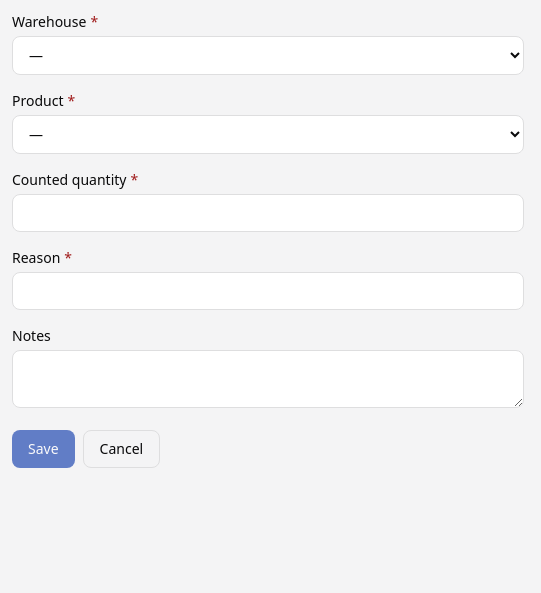
AdjustForm › renders a clean decimal difference instead of a floating-point artifact
Select "Main" in the dropdown labelled "Warehouse": (268, 56) [12,36,524,75]
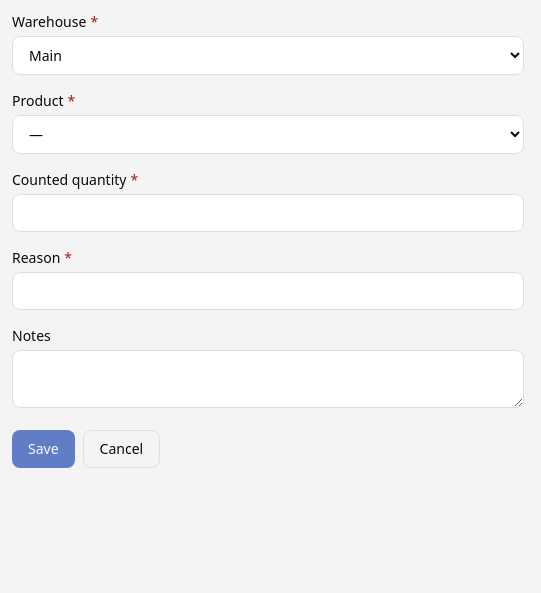
Select "Product 1" in the dropdown labelled "Product": (268, 134) [12,115,524,154]
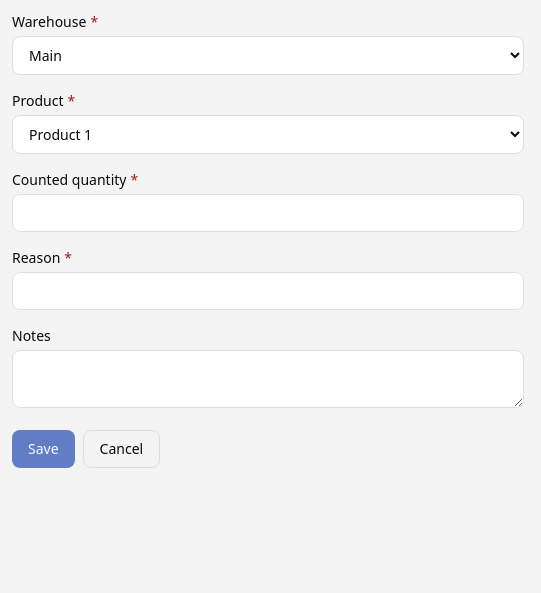
In the number field labelled "Counted quantity": (268, 213) [12,194,524,232], type "20.2"
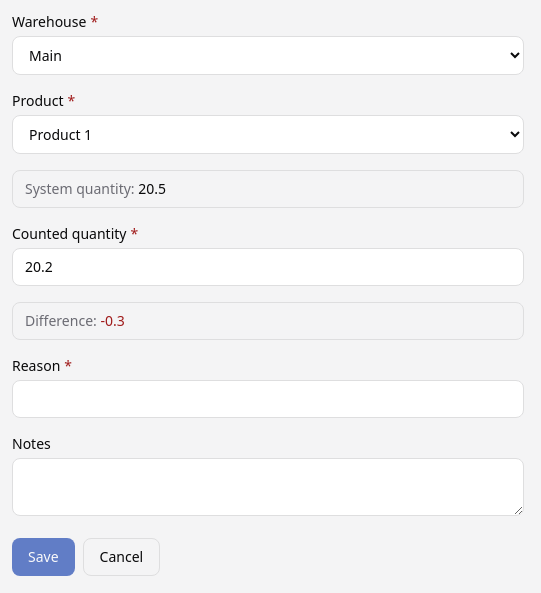
Expected: the text "-0.3" is shown, [100,311,125,330]
